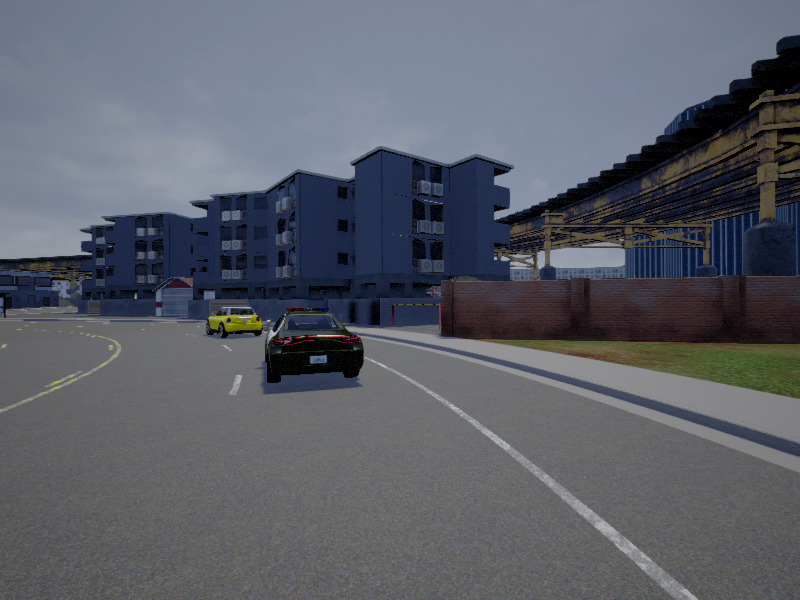Benign: (265, 309, 364, 382), (207, 307, 265, 337)
